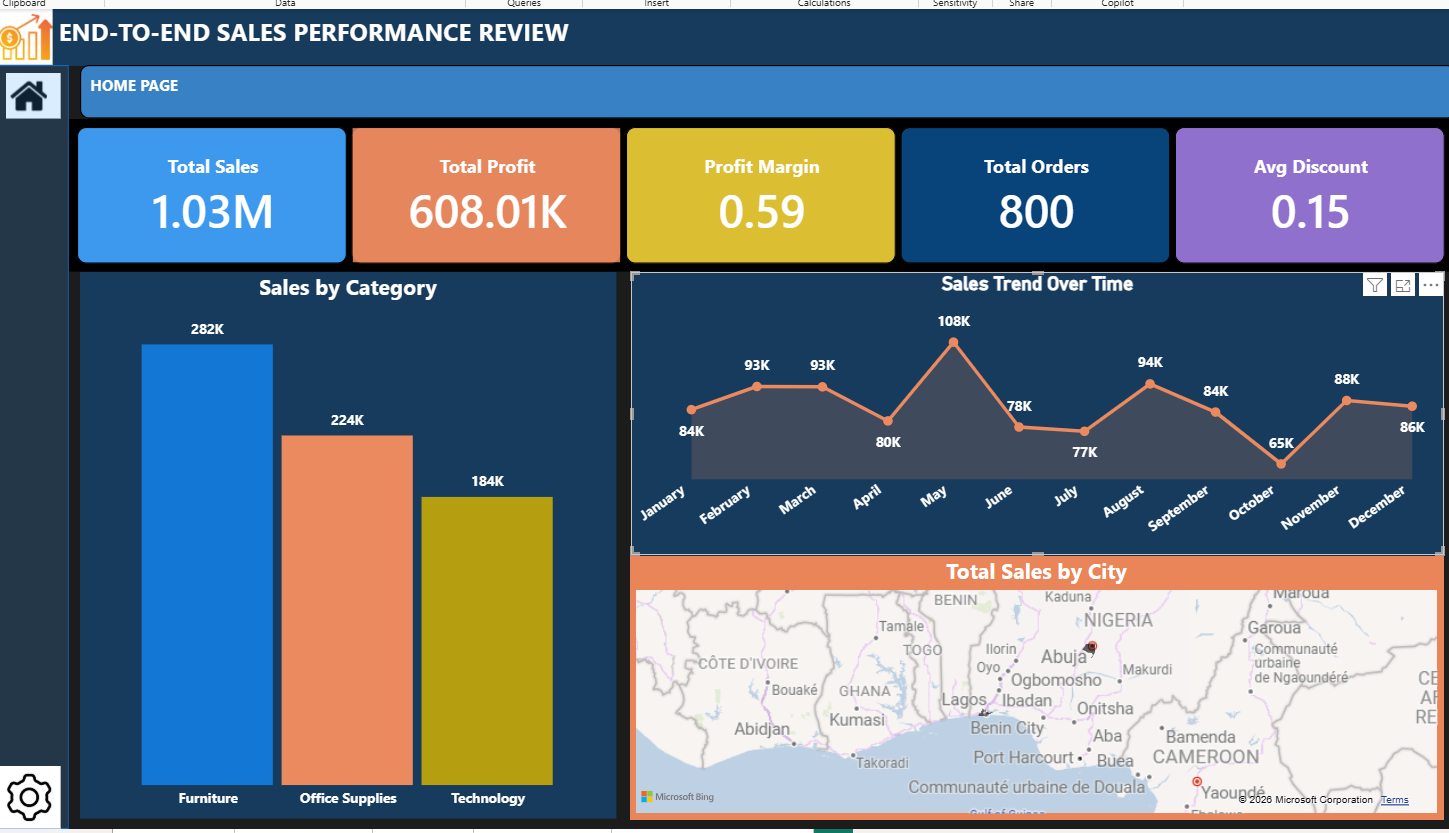

The dashboard page shown, as its layout file describes it:
{"tool":"powerbi","page":{"name":"Executive Page","canvas":[1280,720],"ordinal":0},"visuals":[{"type":"textbox","box":[48.6,0,1231.4,49.6],"z":0},{"type":"textbox","box":[72,49.6,1208,46.7],"z":1000},{"type":"cardVisual","fields":{"Data":["Sales.Total Sales","Sales.Total Profit","Sales.Profit Margin","Sales.Total Orders","Sales.Avg Discount"]},"box":[62.2,96.3,1217.8,134.2],"z":2000},{"type":"clusteredColumnChart","title":"Sales by Category","fields":{"Category":["Products.Category"],"Y":["Sales.Total Sales"]},"box":[72,230.5,470.8,480.5],"z":3000},{"type":"areaChart","title":"Sales Trend Over Time","fields":{"Category":["Sales.OrderDate.Variation.Date Hierarchy.Month"],"Y":["Sales.Total Sales"]},"box":[555.4,230.5,713.9,249],"z":4000},{"type":"image","box":[0,0,48.3,49.2],"z":6000},{"type":"actionButton","box":[7,56.2,48.3,40.4],"z":7000},{"type":"shape","box":[0,49.2,62.3,670.8],"z":8000},{"type":"image","box":[0,664.7,55.3,55.3],"z":9000}]}

Visuals, with their boxes on the page's 1280x720 design canvas (x1, y1, x2, y2). These are canvas units, not pixel positions in the 1449x833 screenshot, which may show the page scaled, cropped or inside an application window:
textbox: [left=49, top=0, right=1280, bottom=50]
textbox: [left=72, top=50, right=1280, bottom=96]
cardVisual - Sales.Total Sales x Sales.Total Profit: [left=62, top=96, right=1280, bottom=230]
"Sales by Category" clusteredColumnChart: [left=72, top=230, right=543, bottom=711]
"Sales Trend Over Time" areaChart: [left=555, top=230, right=1269, bottom=480]
image: [left=0, top=0, right=48, bottom=49]
actionButton: [left=7, top=56, right=55, bottom=97]
shape: [left=0, top=49, right=62, bottom=720]
image: [left=0, top=665, right=55, bottom=720]
